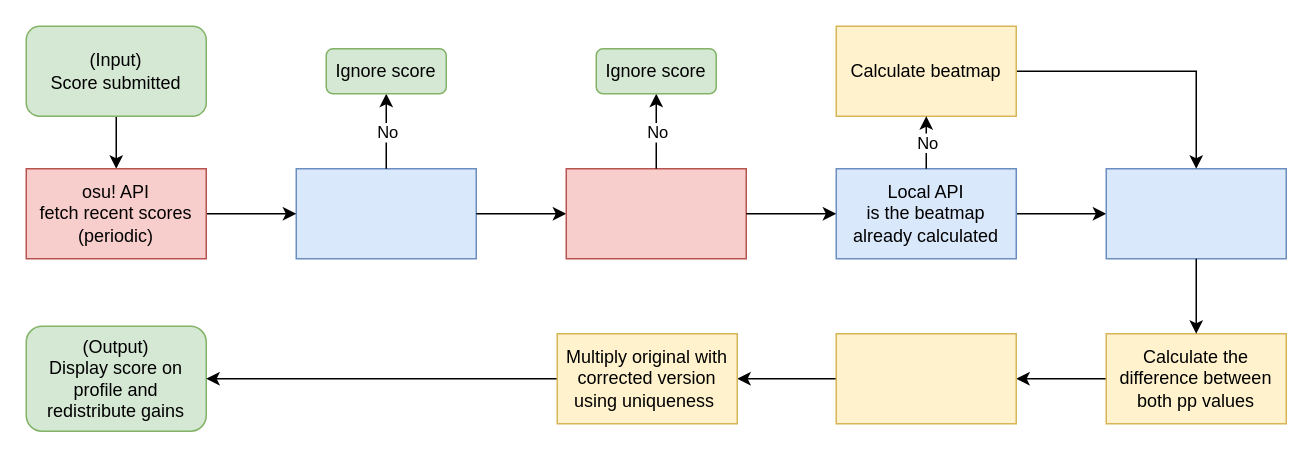
Some shapes in this 1313 by 458 pixel diagram are drawn without their labels. The shapes that lost their labels are listed below. From the top down, each one's centre as x and y in pixels, then its label:
At point (385, 213): "Local API is the score in the users top 100".
At point (655, 213): "osu! API is the score his own personal best".
At point (1195, 213): "Local API fetch corresponding average for the layer".
At point (925, 378): "Convert difference into a multiplier".
